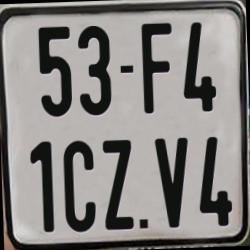1: (30, 140, 56, 235)
3: (78, 24, 113, 114)
4: (180, 20, 216, 111), (198, 136, 233, 228)
5: (38, 26, 73, 118)
C: (62, 139, 98, 233)
F: (142, 22, 176, 116)
V: (154, 138, 192, 231)
Z: (102, 140, 136, 232)
